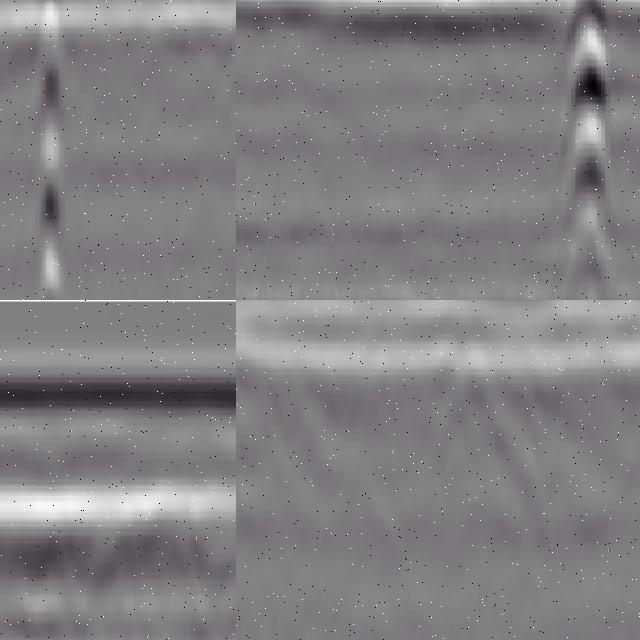crack: (31, 1, 65, 301), (572, 1, 603, 301)
